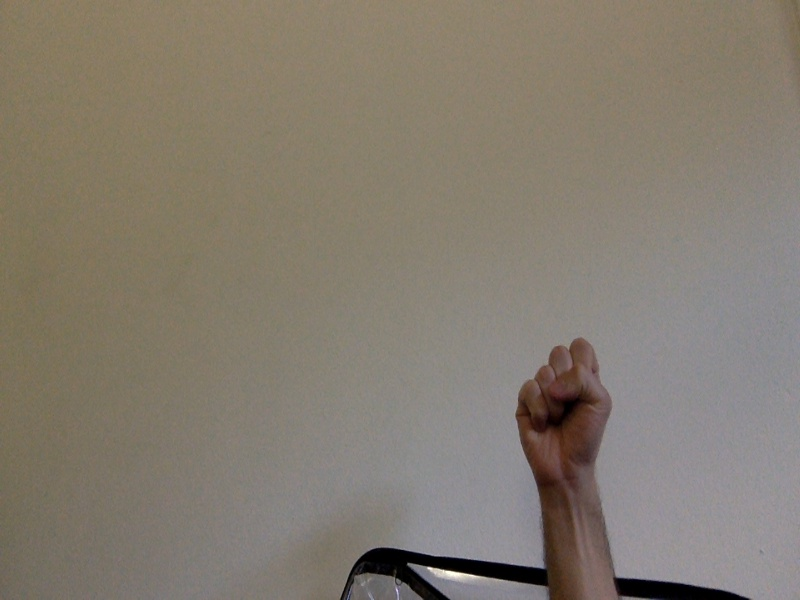0-hand: (515, 338, 613, 484)
